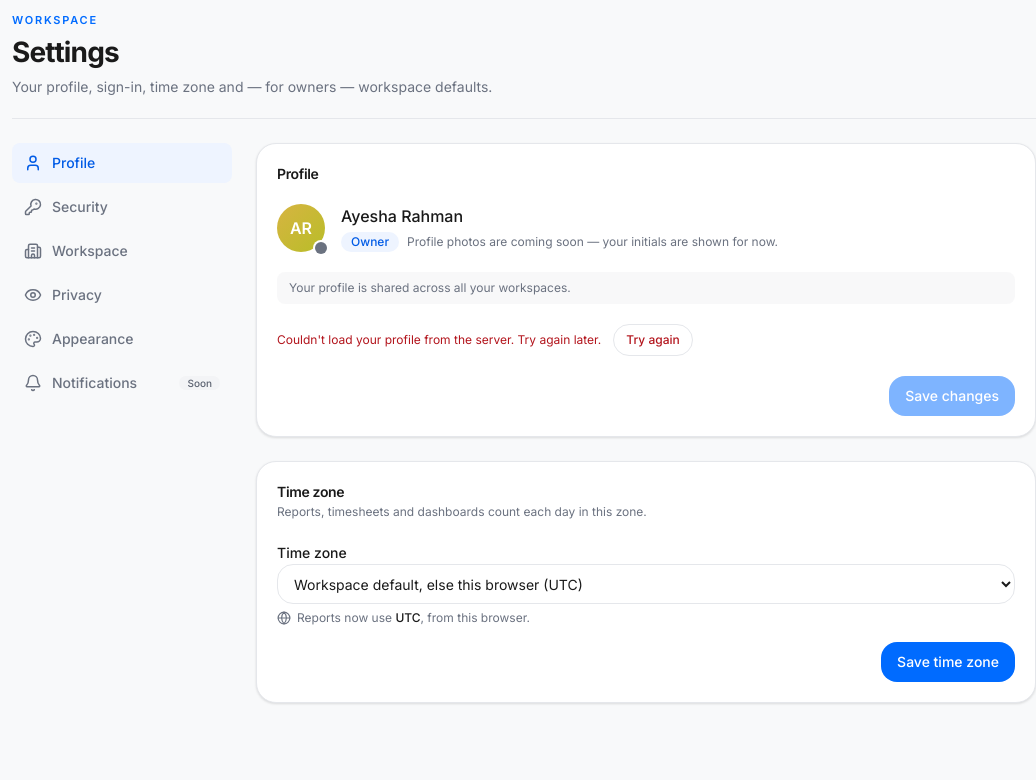
settings page — accessibility › a11y: the live security form has no axe violations
Step 1. Click the tab "Security" → click(122, 207), box left=12, top=187, right=232, bottom=227
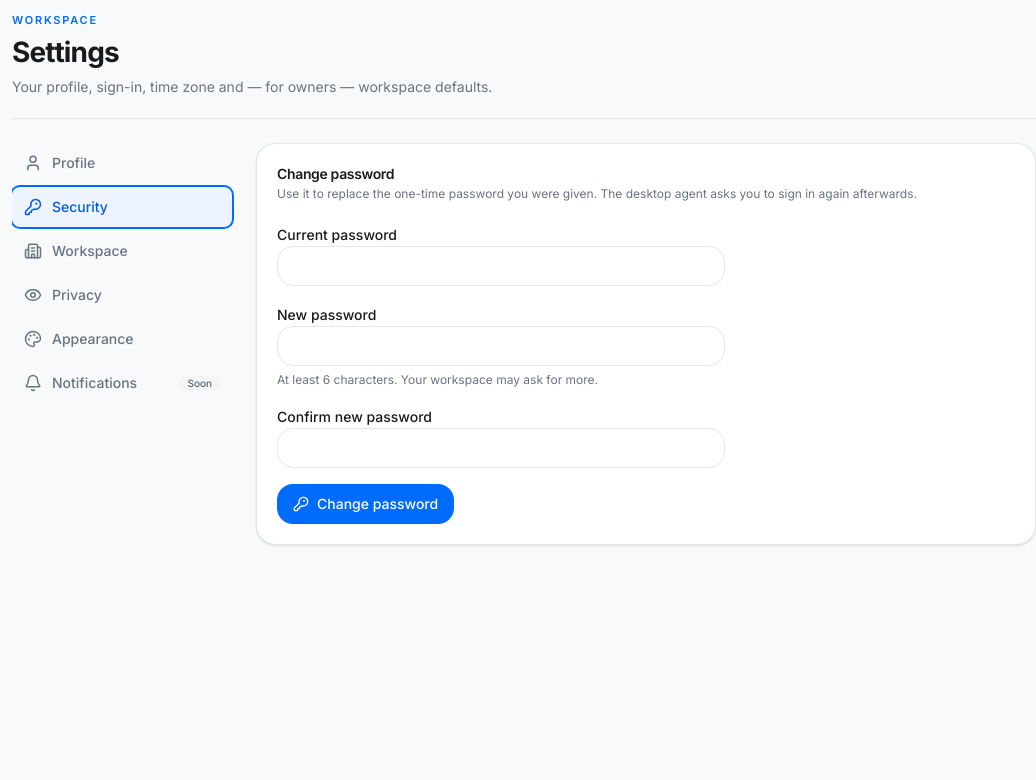
Result: the password field labelled "Current password" is shown at left=277, top=246, right=725, bottom=286
